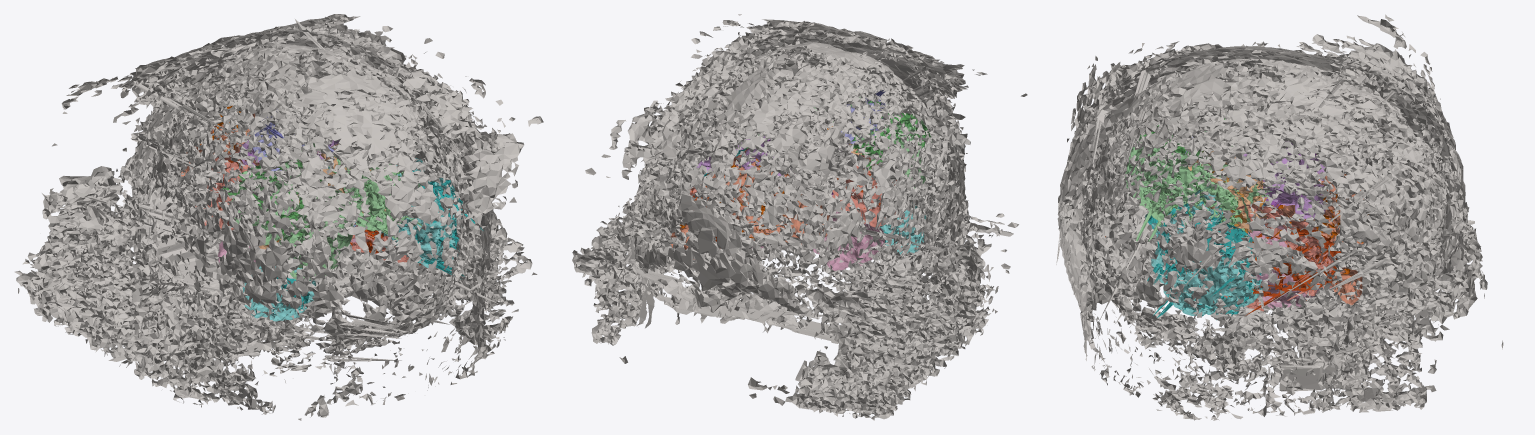
Rendered from case_library_gbm.glb.
3 renders of one model, left to right at view 1: azimuth 30°, elevation 25°; view 2: azimuth 150°, elevation 25°; view 3: azimuth 270°, elevation 25°, orthographic. The views are drawn at different scales.
Visible parts, largest first — view 1: Reference brain surface, GBM Left Occipital — enhancing tumour (sub-093), GBM Right Occipital — enhancing tumour (sub-136), GBM Right Occipito-temporal — enhancing tumour (sub-143), GBM Left Occipito-temporal — enhancing tumour (sub-102), GBM Right Occipito-temporal — necrotic core (sub-143), GBM Left Occipital — necrotic core (sub-093), GBM Left Insular / peri-sylvian — enhancing tumour (sub-086); view 2: Reference brain surface, GBM Left Frontal — enhancing tumour (sub-139), GBM Left Temporal — enhancing tumour (sub-069), GBM Left Occipital — necrotic core (sub-093), GBM Left Insular / peri-sylvian — enhancing tumour (sub-086), GBM Left Occipito-temporal — enhancing tumour (sub-102), GBM Left Occipital — enhancing tumour (sub-093); view 3: Reference brain surface, GBM Right Occipital — enhancing tumour (sub-136), GBM Right Occipito-temporal — enhancing tumour (sub-143), GBM Right Occipito-temporal — necrotic core (sub-143), GBM Right Insular / peri-sylvian — enhancing tumour (sub-018, GBM Right Insular / peri-sylvian — necrotic core (sub-018), GBM Right Deep / thalamic-basal ganglia — enhancing tumour (, GBM Right Temporal — enhancing tumour (sub-002), GBM Right Fronto-temporal / peri-sylvian — enhancing tumour , GBM Left Frontal — enhancing tumour (sub-139), GBM Right Frontal — enhancing tumour (sub-031), GBM Left Occipital — enhancing tumour (sub-093).
Part boxes in pixels (box(x1,y1,x2,y2)): Reference brain surface: box(14, 14, 543, 420); GBM Left Occipital — enhancing tumour (sub-093): box(231, 143, 353, 280); GBM Right Occipital — enhancing tumour (sub-136): box(336, 158, 422, 240); GBM Right Occipito-temporal — enhancing tumour (sub-143): box(376, 158, 462, 267); GBM Left Occipito-temporal — enhancing tumour (sub-102): box(242, 266, 316, 321); GBM Right Occipito-temporal — necrotic core (sub-143): box(372, 159, 483, 279); GBM Left Occipital — necrotic core (sub-093): box(219, 123, 345, 242); GBM Left Insular / peri-sylvian — enhancing tumour (sub-086): box(195, 152, 259, 230); Reference brain surface: box(572, 14, 1027, 420); GBM Left Frontal — enhancing tumour (sub-139): box(705, 157, 829, 244); GBM Left Temporal — enhancing tumour (sub-069): box(813, 211, 884, 270); GBM Left Occipital — necrotic core (sub-093): box(850, 97, 932, 169); GBM Left Insular / peri-sylvian — enhancing tumour (sub-086): box(832, 155, 896, 227); GBM Left Occipito-temporal — enhancing tumour (sub-102): box(880, 206, 926, 254); GBM Left Occipital — enhancing tumour (sub-093): box(858, 104, 928, 188); Reference brain surface: box(1056, 14, 1503, 420); GBM Right Occipital — enhancing tumour (sub-136): box(1136, 152, 1271, 241); GBM Right Occipito-temporal — enhancing tumour (sub-143): box(1151, 186, 1263, 315); GBM Right Occipito-temporal — necrotic core (sub-143): box(1147, 195, 1262, 320); GBM Right Insular / peri-sylvian — enhancing tumour (sub-018: box(1186, 204, 1333, 311); GBM Right Insular / peri-sylvian — necrotic core (sub-018): box(1105, 217, 1341, 315); GBM Right Deep / thalamic-basal ganglia — enhancing tumour (: box(1243, 141, 1327, 224); GBM Right Temporal — enhancing tumour (sub-002): box(1245, 218, 1319, 308); GBM Right Fronto-temporal / peri-sylvian — enhancing tumour : box(1188, 160, 1270, 233); GBM Left Frontal — enhancing tumour (sub-139): box(1272, 173, 1363, 244); GBM Right Frontal — enhancing tumour (sub-031): box(1331, 267, 1362, 305); GBM Left Occipital — enhancing tumour (sub-093): box(1125, 135, 1187, 208).
Bounding box in the file's own units: 204 × 152 × 229.
